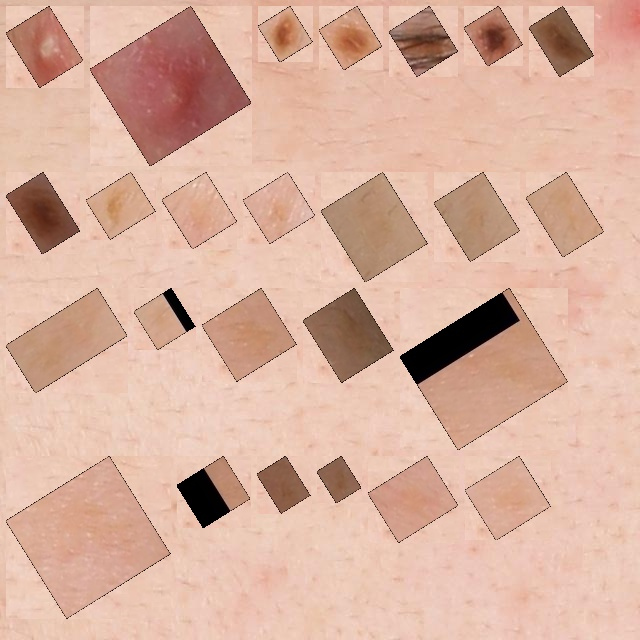melasma: (411, 299, 557, 439), (17, 467, 159, 607), (17, 299, 116, 382), (332, 183, 416, 271), (213, 299, 285, 370), (314, 299, 382, 371), (379, 467, 447, 531), (445, 183, 509, 250), (476, 467, 540, 529), (537, 183, 593, 246), (173, 183, 226, 238), (188, 467, 239, 517), (254, 183, 304, 232), (97, 183, 144, 228), (145, 299, 184, 338), (268, 467, 299, 502), (328, 467, 350, 492)
nevus: (17, 183, 69, 243), (400, 17, 447, 65), (540, 17, 583, 65), (330, 17, 371, 59), (475, 17, 512, 55), (269, 17, 301, 51)
pustule: (101, 17, 240, 155), (17, 17, 72, 76)
